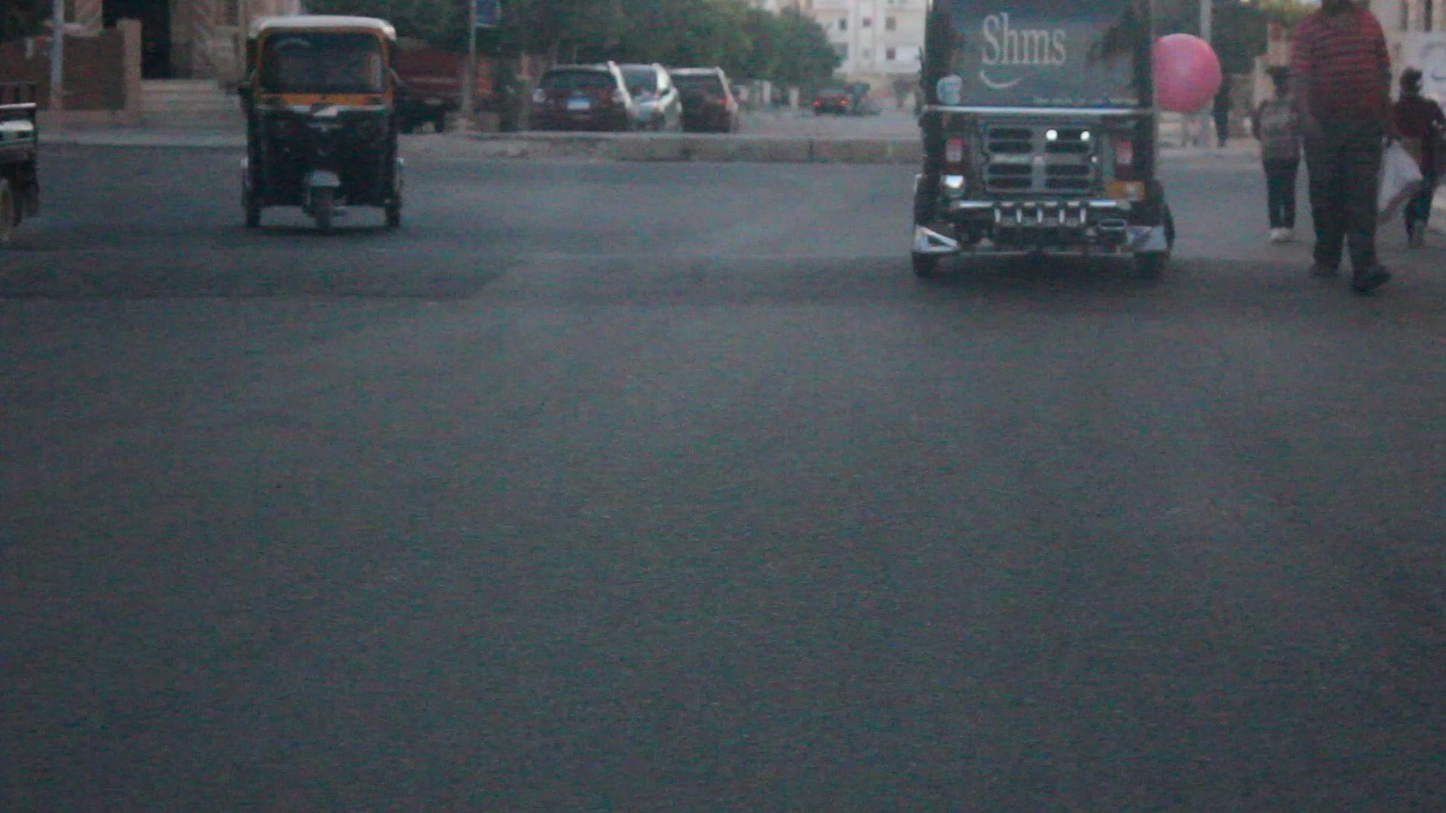Bump: (9, 243, 1446, 316)
